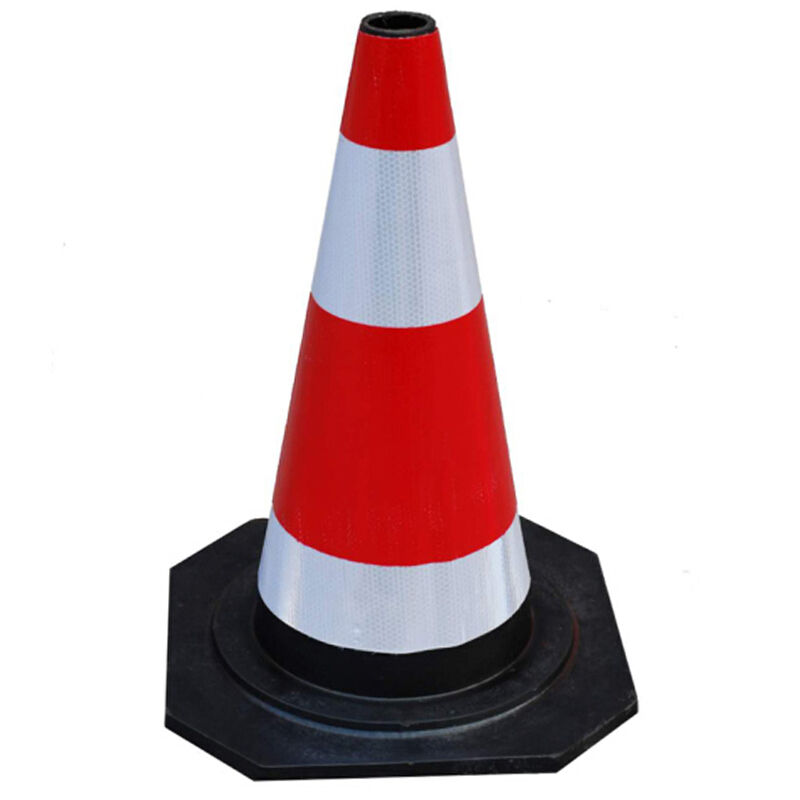traffic_cone: (161, 7, 648, 790)
